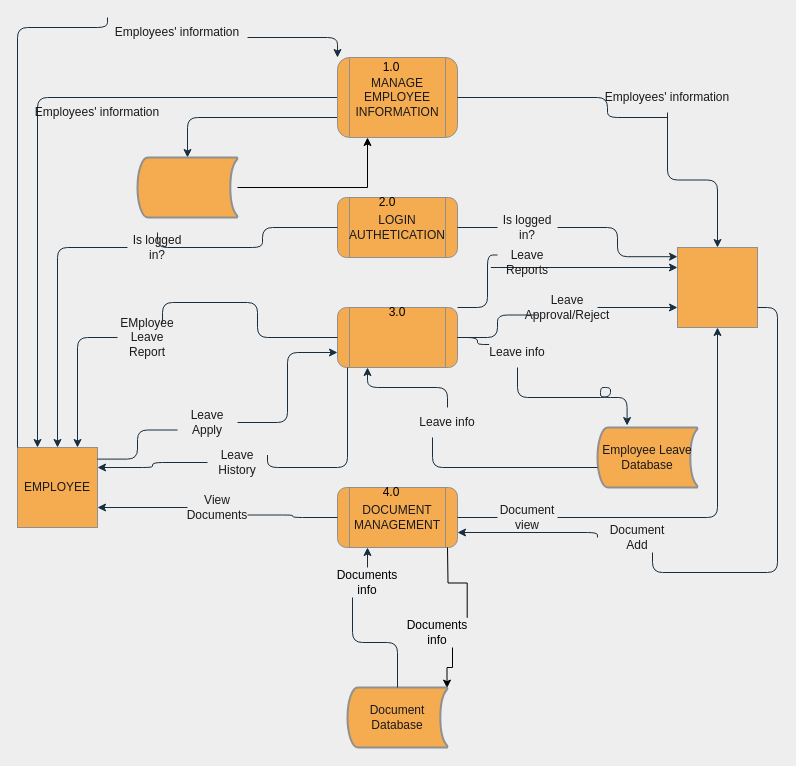
Image size: 796x766. Some labels were removed from this diagram. The shapes that lost their labels are listed below. From the top down, each one's box as (x1, y1, x2, y2) in pixels, then its label:
(136, 156, 238, 218): Employee Database
(676, 246, 758, 328): MANAGER
(336, 306, 458, 368): LEAVE MANAGEMENT
